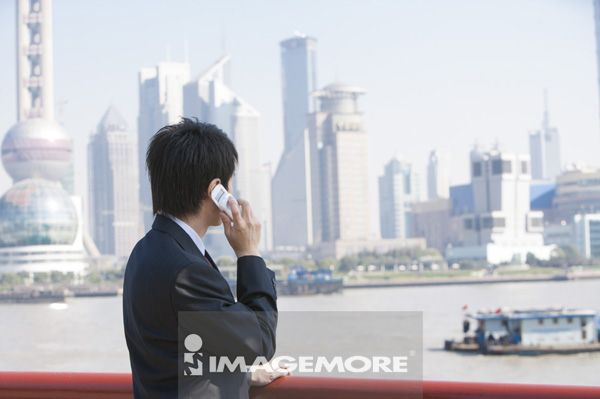phone: (211, 186, 240, 221)
